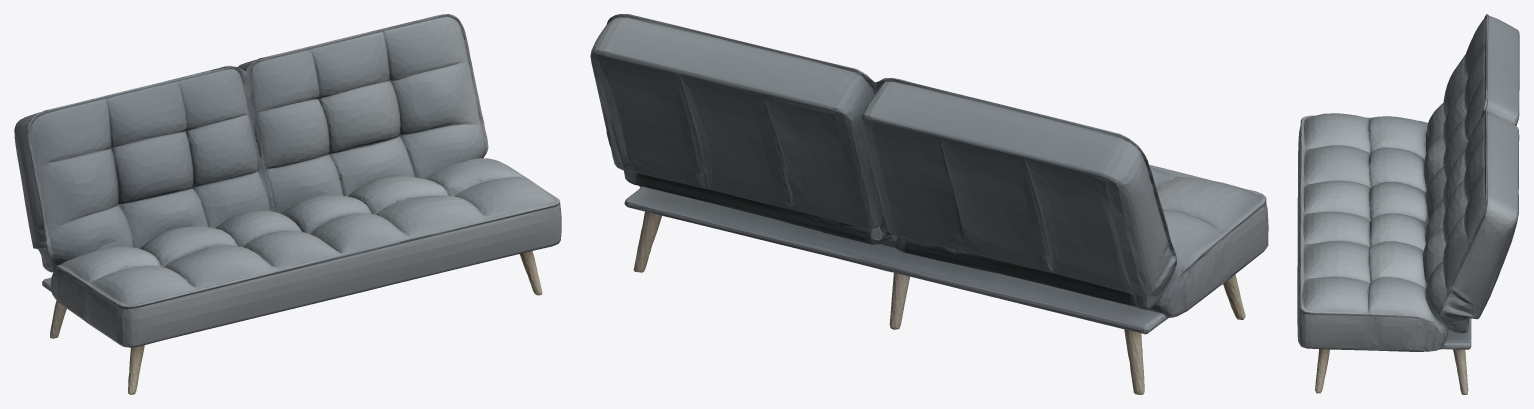
Rendered from click_clack_fanlo_dark_gray1.glb.
3 views of the same model, side by side, from view 1: azimuth 30°, elevation 25°; view 2: azimuth 150°, elevation 25°; view 3: azimuth 270°, elevation 25° (orthographic). The views are drawn at different scales.
Visible parts, largest first — view 1: geometry_0.002; view 2: geometry_0.002; view 3: geometry_0.002.
Part boxes in pixels (x1,y1,x2,y2): geometry_0.002: (14, 14, 561, 394); geometry_0.002: (590, 14, 1268, 394); geometry_0.002: (1297, 14, 1519, 394).
Size of the model in its own units: 1.9 by 0.8939 by 0.904.
1 material, 1 textured.
